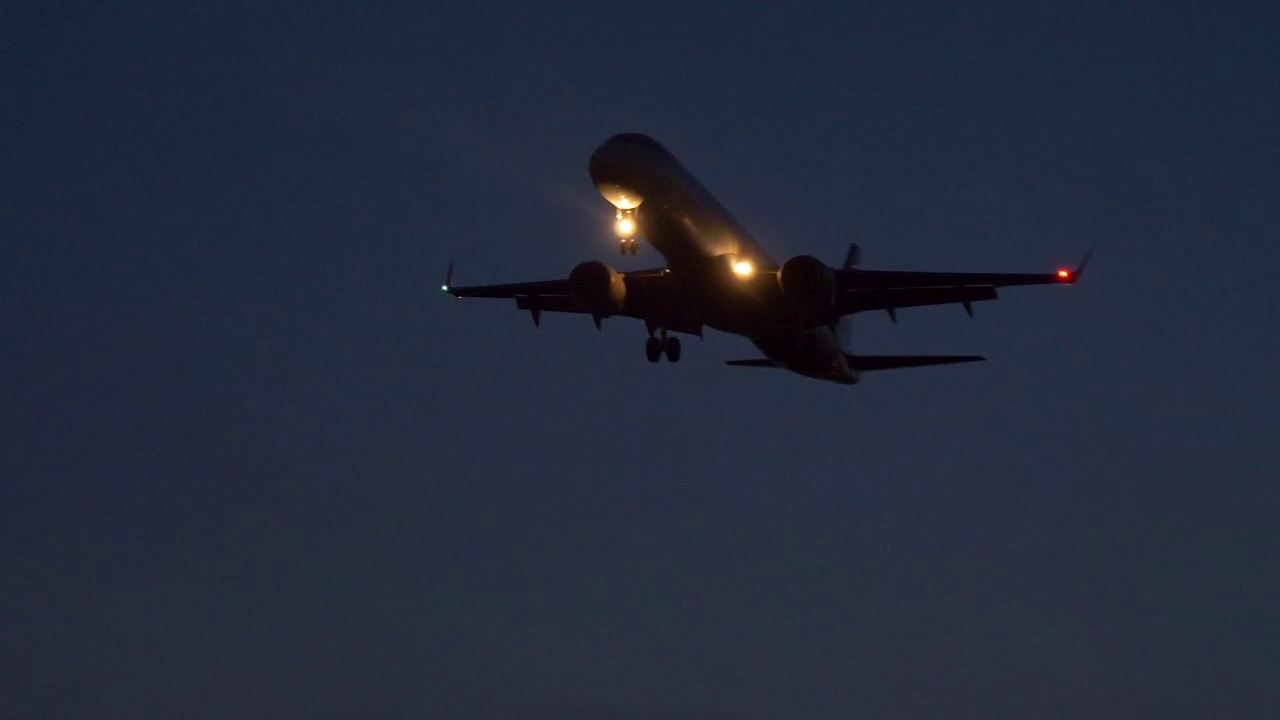plane: (438, 131, 1092, 388)
